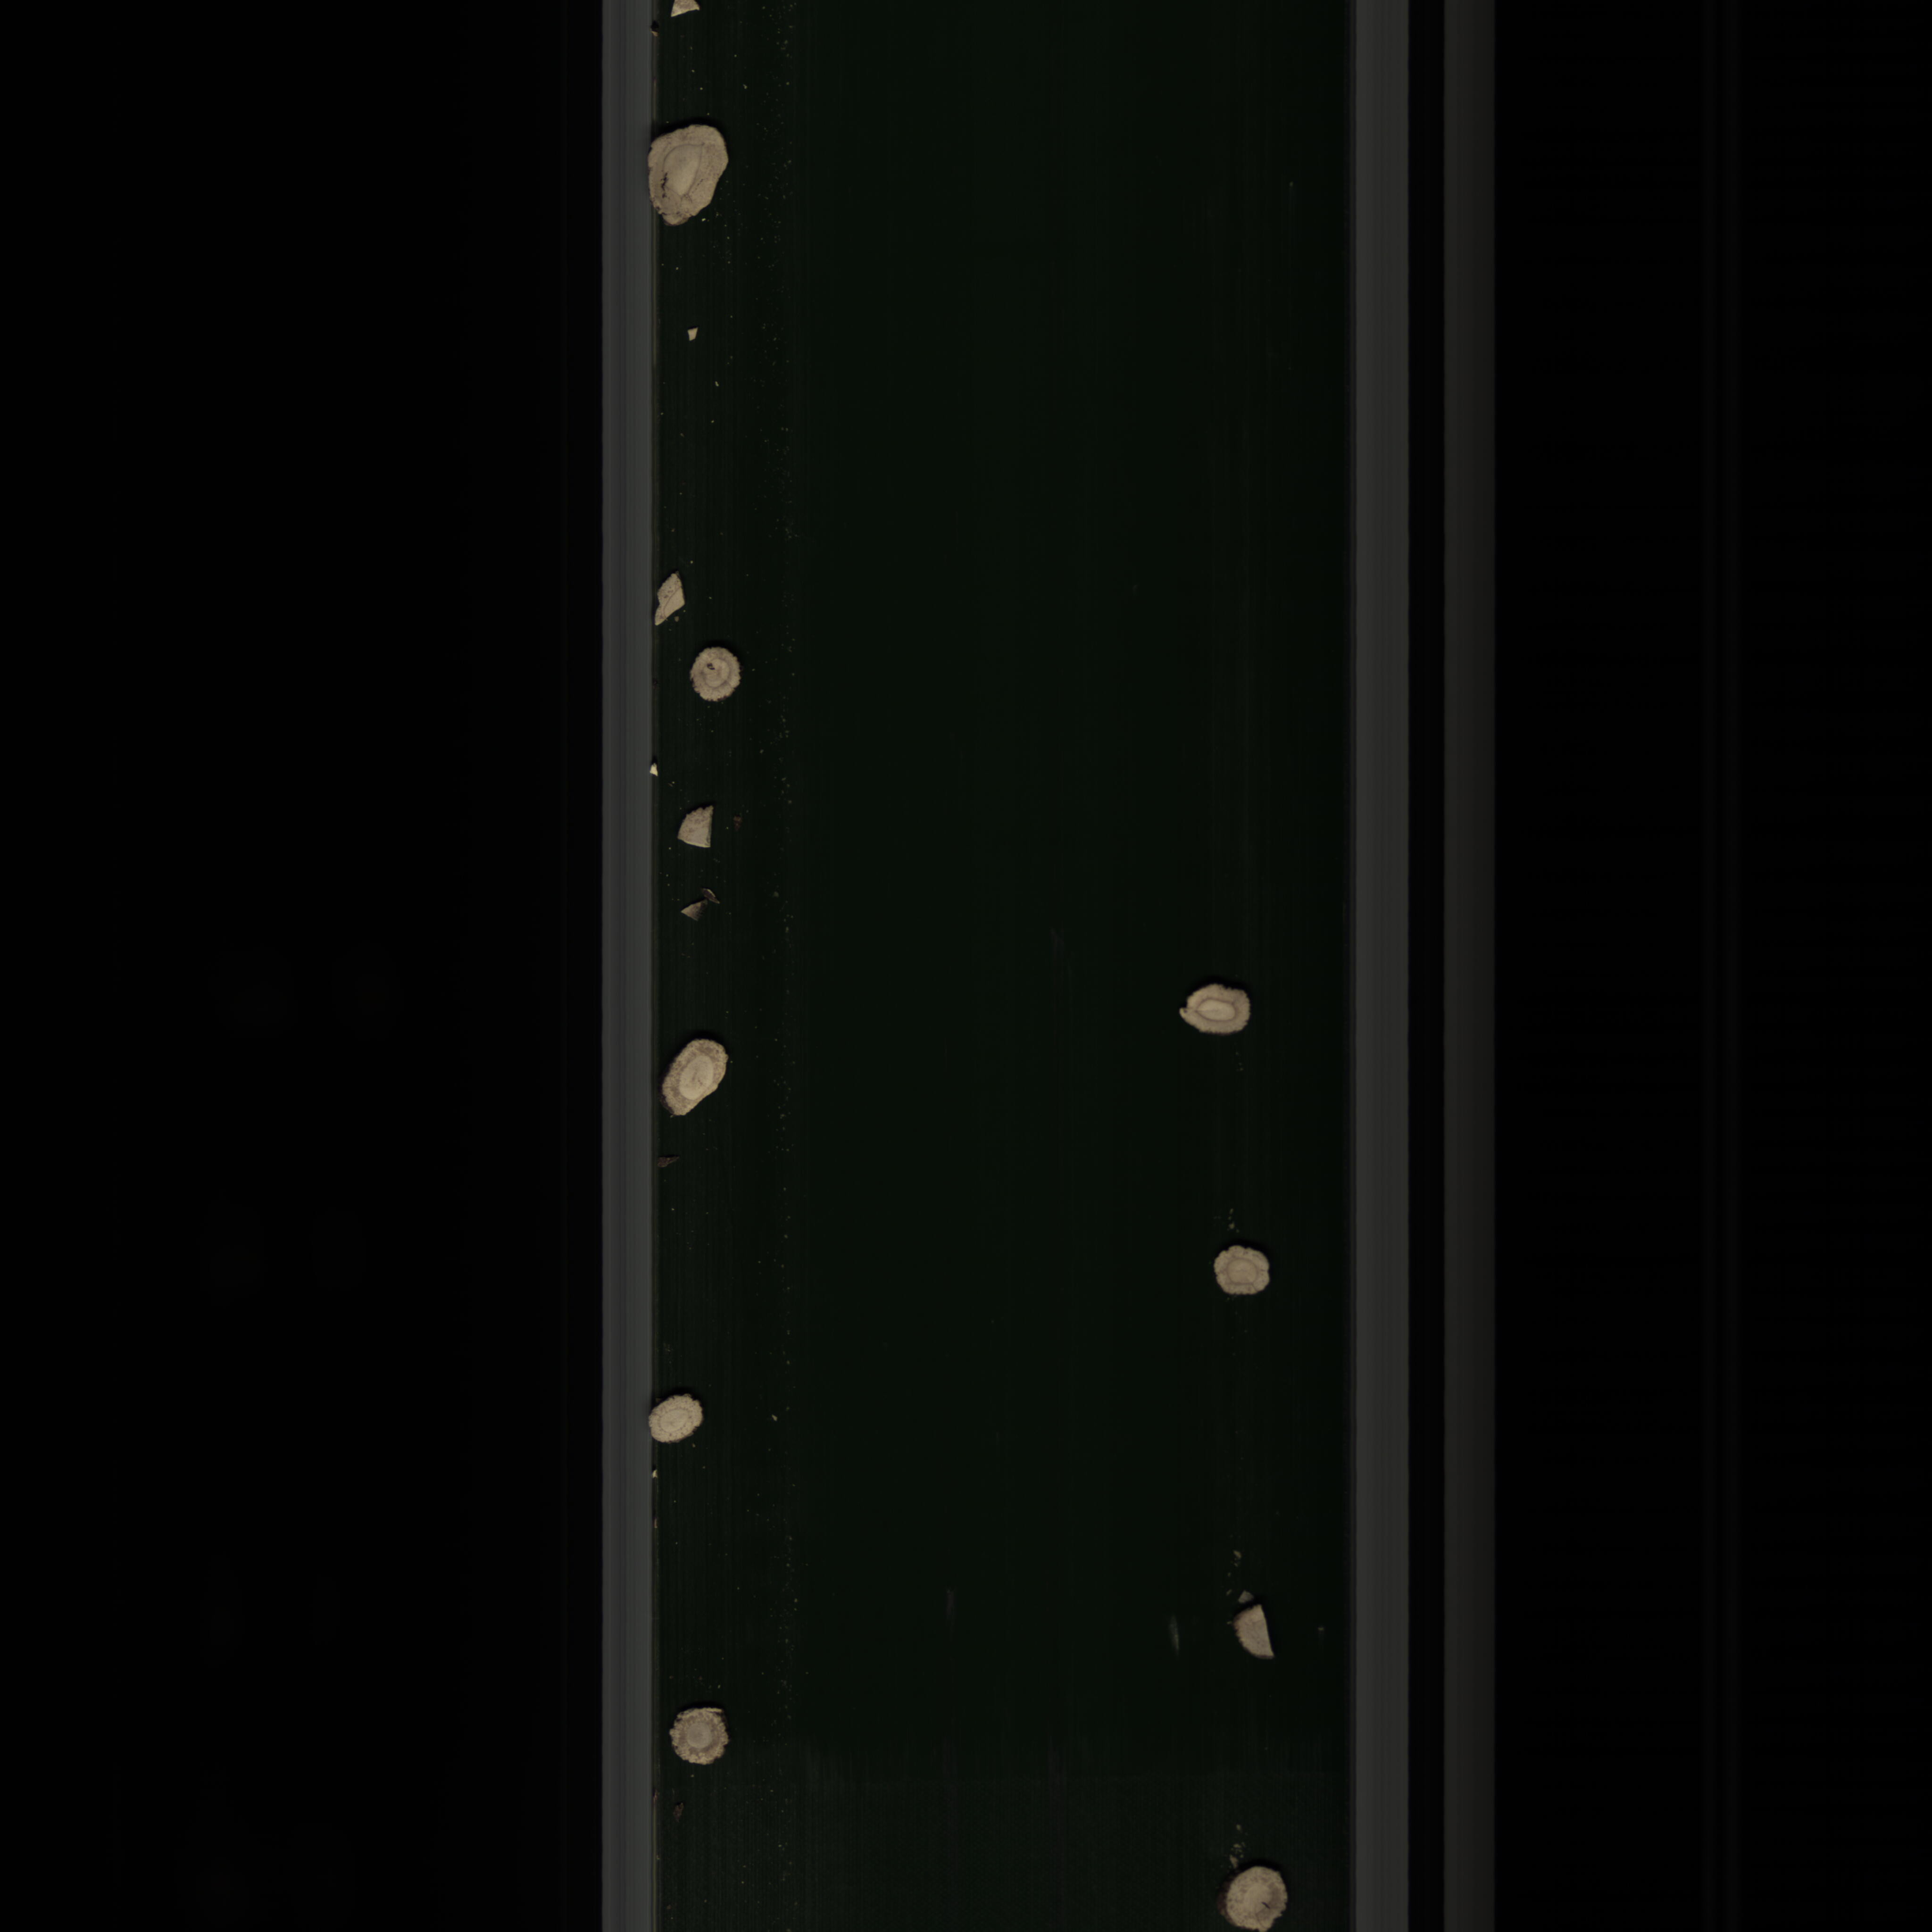bark: (678, 885, 720, 931)
debris: (658, 1035, 752, 1120), (1231, 1587, 1283, 1668), (653, 566, 692, 628), (676, 800, 717, 855)
hole: (686, 644, 754, 708)
